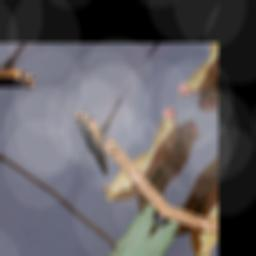Swallow: (55, 106, 132, 179)
